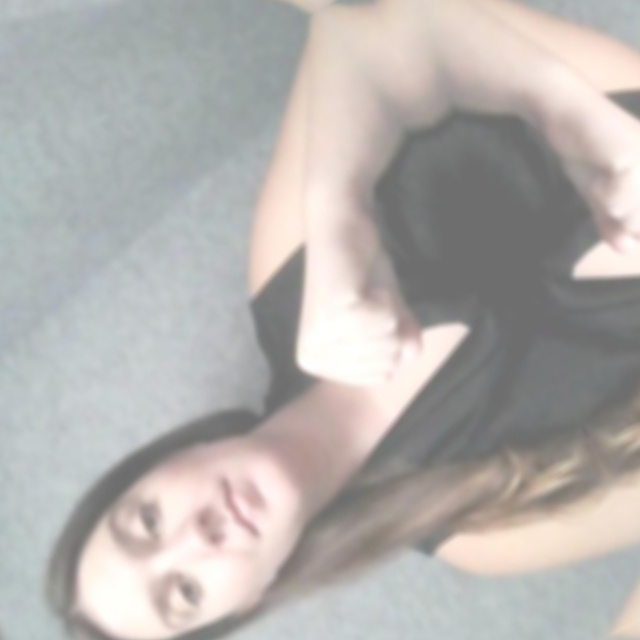Rock: (209, 160, 495, 460)
